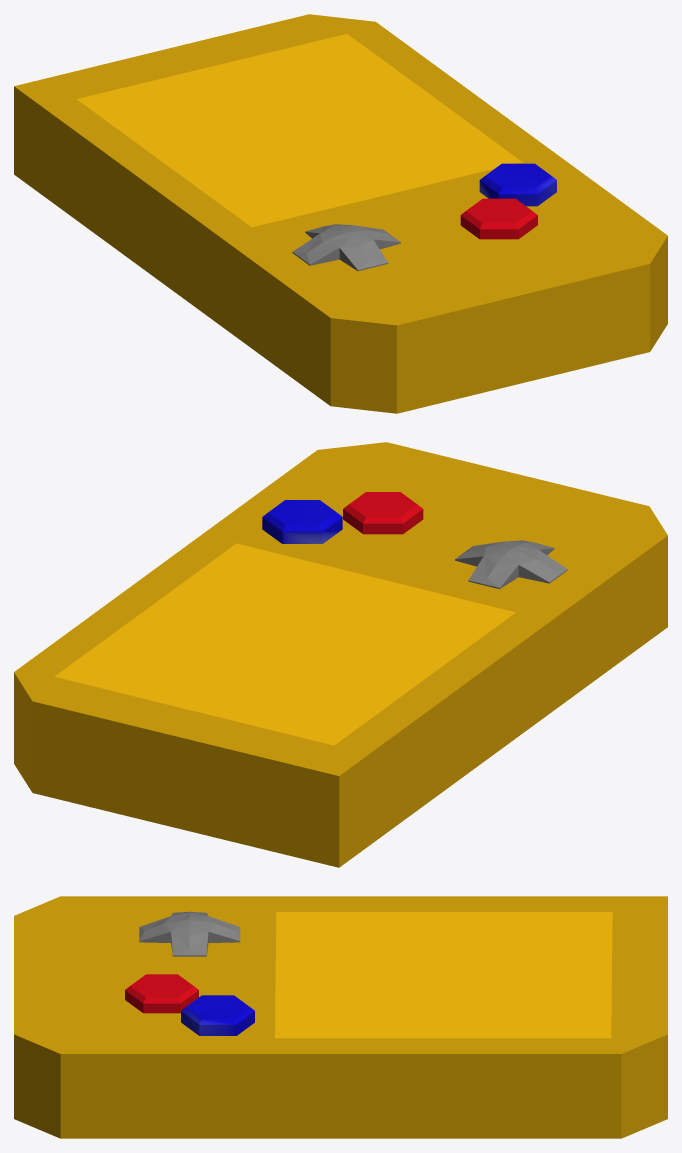
Rendered from Console.fbx.
3 renders of one model, top to bottom at view 1: azimuth 30°, elevation 25°; view 2: azimuth 150°, elevation 25°; view 3: azimuth 270°, elevation 25°, orthographic. The views are drawn at different scales.
Parts seen in each view (by area): view 1: Cube; view 2: Cube; view 3: Cube.
Boxes of the visible parts, <box> form: Cube: <box>14,14,667,413</box>; Cube: <box>14,442,667,867</box>; Cube: <box>14,896,667,1138</box>.
Size of the model in its own units: 200 by 59.21 by 350.
